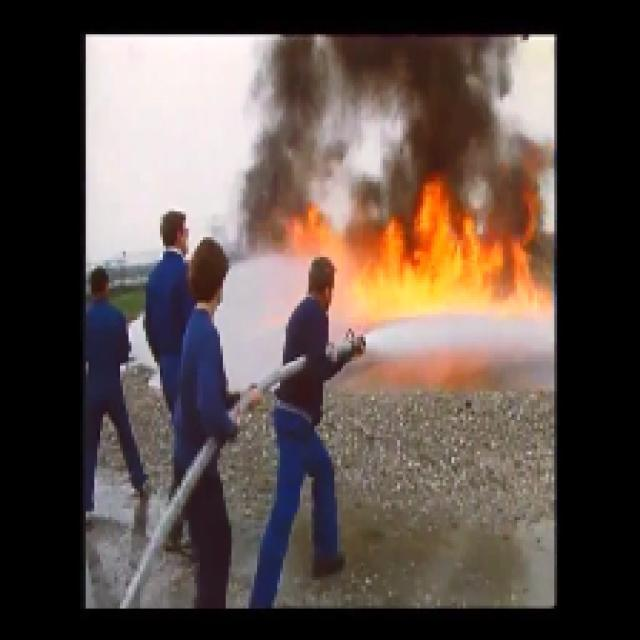Fire: (364, 212, 540, 320)
Smoke: (354, 39, 497, 179), (254, 34, 320, 218)
